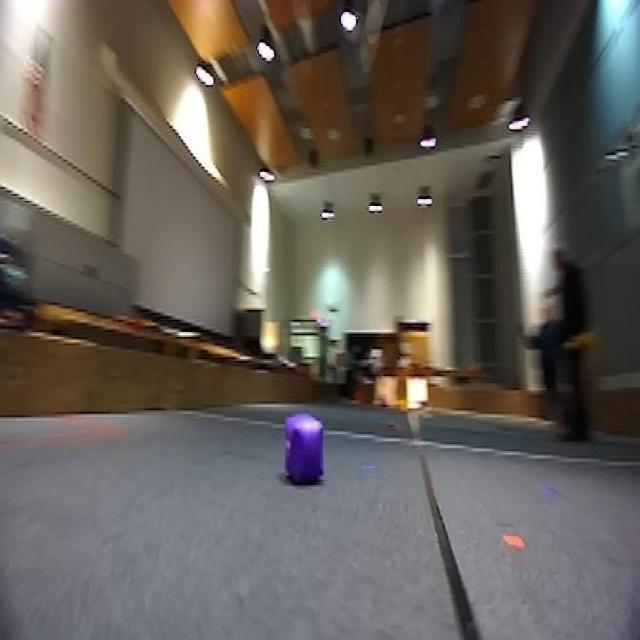frc_cone: (564, 324, 599, 359), (394, 395, 410, 412)
frc_cube: (282, 412, 327, 487), (419, 397, 431, 417), (378, 396, 388, 414)
